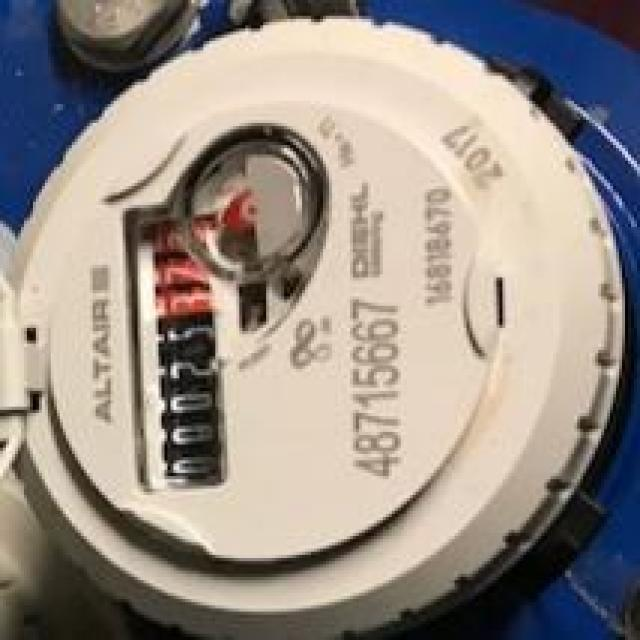gaz_meter: (23, 13, 604, 606)
indication: (129, 201, 229, 490)
